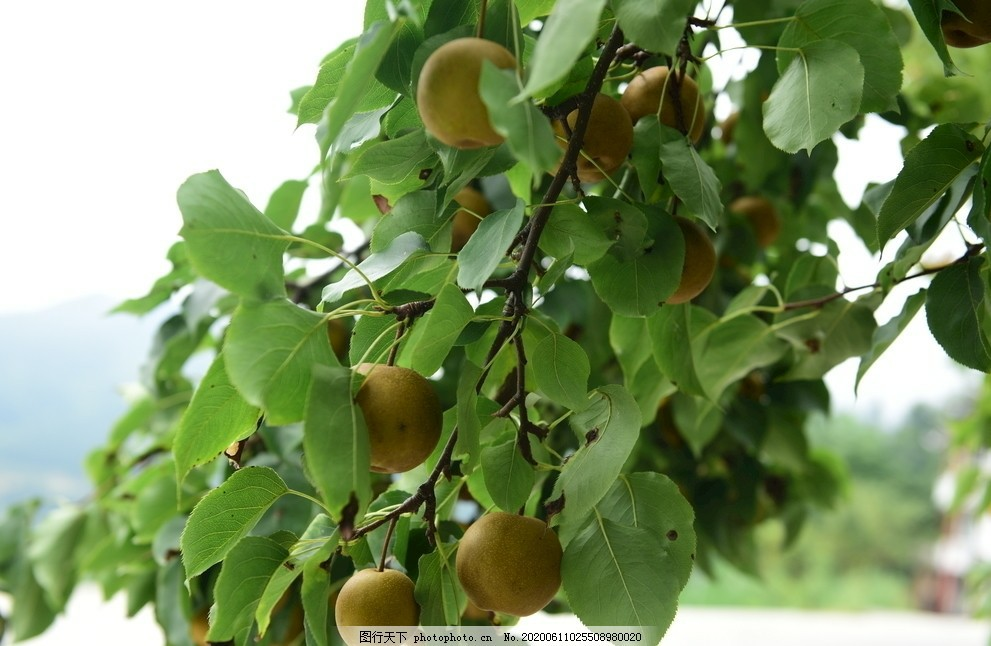pear: (313, 363, 440, 474), (457, 510, 563, 617), (419, 39, 521, 146), (547, 91, 633, 177), (621, 62, 707, 148), (335, 569, 423, 646), (656, 218, 719, 306)
